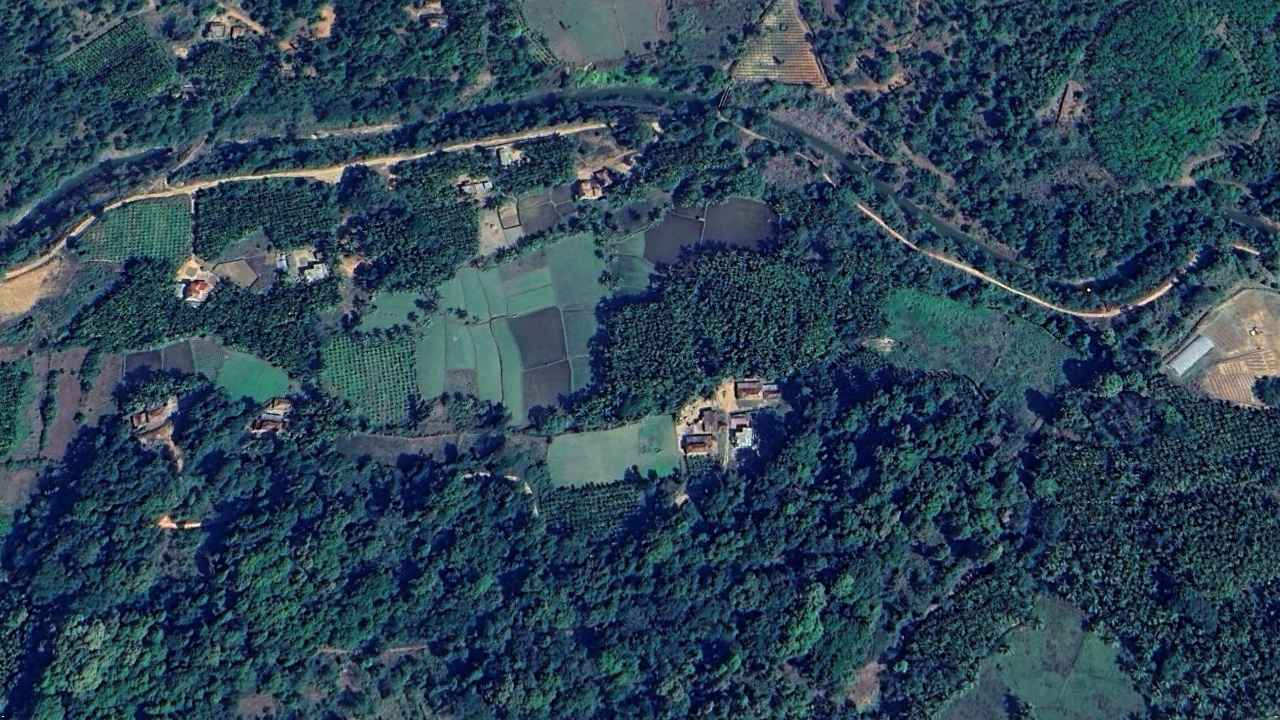arecanut: (1060, 366, 1275, 708), (622, 245, 895, 413), (57, 256, 340, 371), (41, 25, 272, 98)
